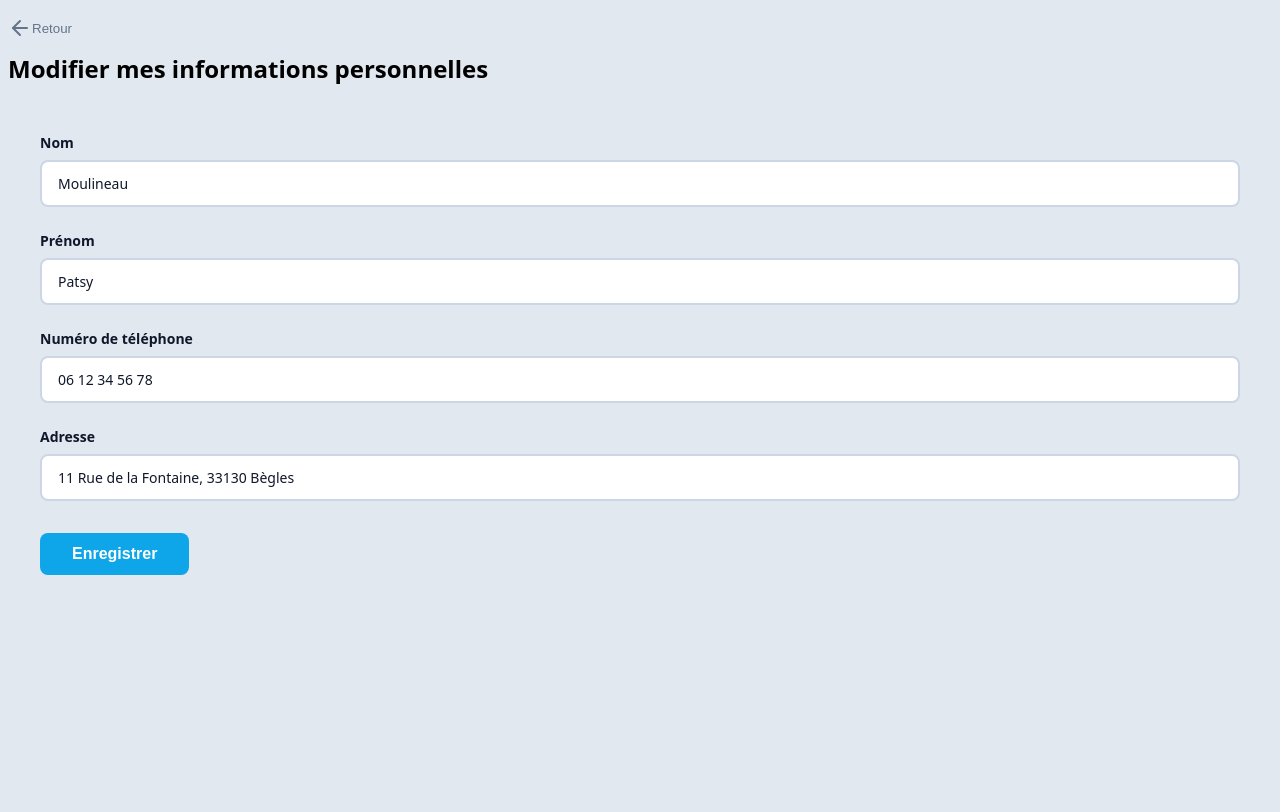
FormContactDetailsComponent › shows validation error for invalid phone
The width and height of the screenshot is (1280, 812).
In the field labelled "Numéro de téléphone": (640, 380) [40, 356, 1240, 403], type "123"
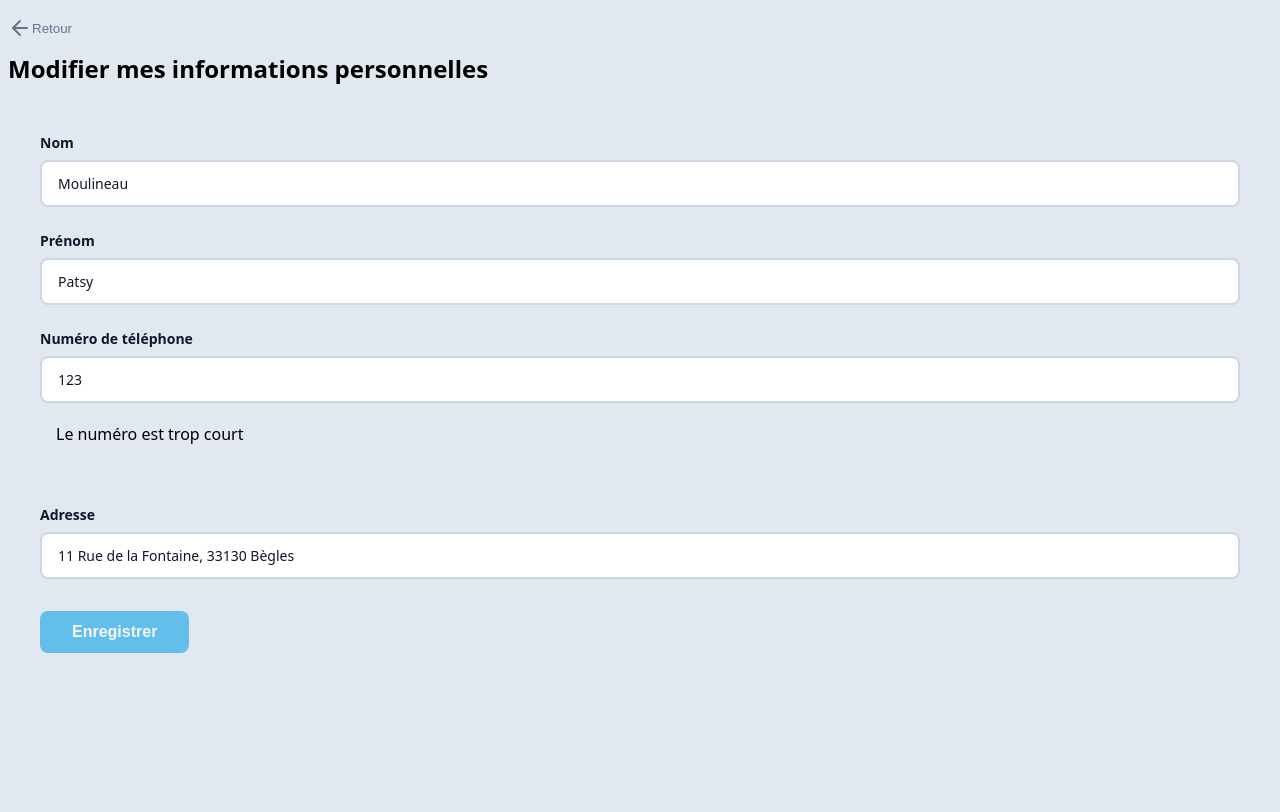
Check: the text "Le numéro est trop court" is shown, box [56, 423, 244, 445]
